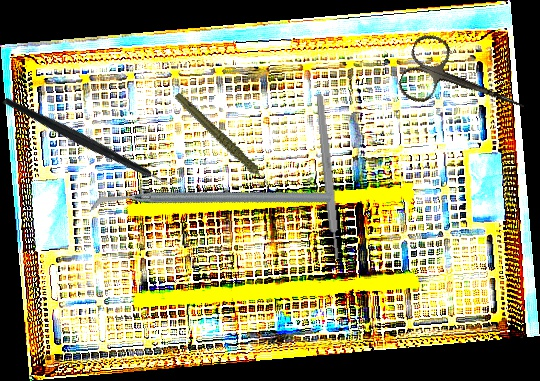Chopper: (86, 107, 334, 297), (2, 47, 184, 234)
Handpiece: (173, 77, 272, 207)
Iris Scissors: (394, 29, 537, 140)
Scalpel Handle: (314, 93, 342, 261)
